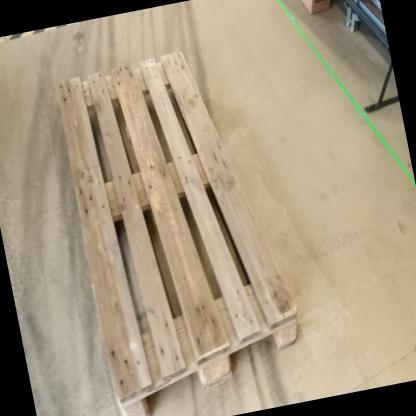BoxFace: (52, 44, 305, 416)
